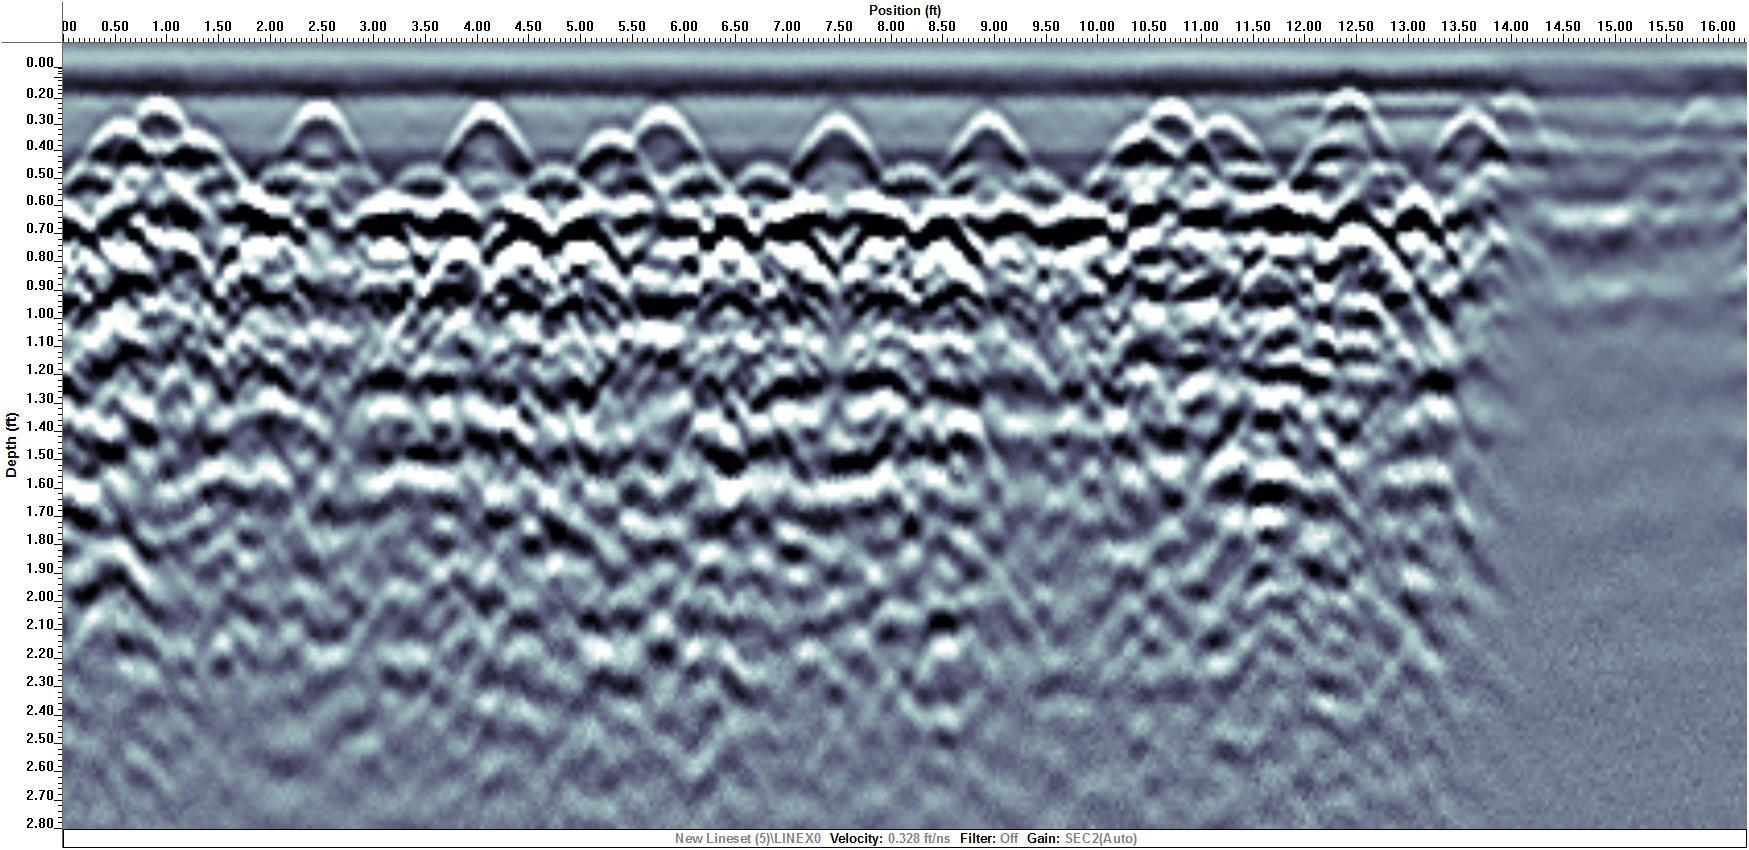hyperbola: (767, 102, 905, 191), (434, 86, 551, 185), (267, 95, 389, 177), (929, 95, 1037, 181)
